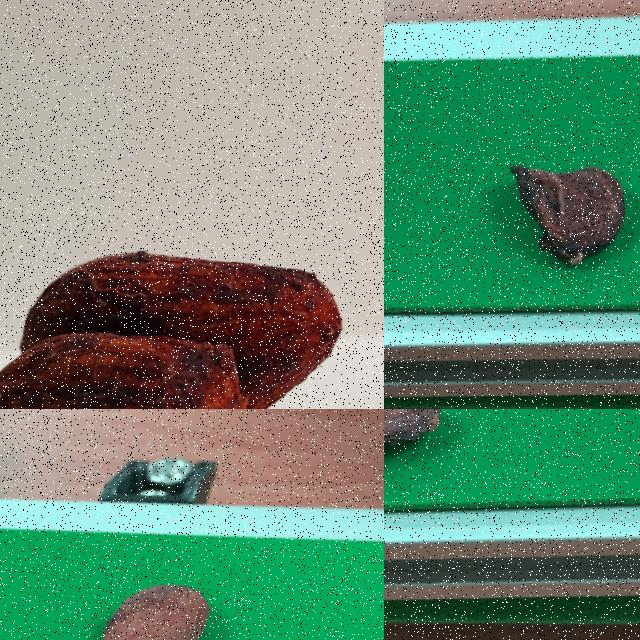Agglomerated_cocoabeans: (0, 202, 383, 408)
Fine_cocoabeans: (0, 542, 321, 639)
Flat_cocoabeans: (437, 128, 639, 308), (384, 409, 524, 525)
